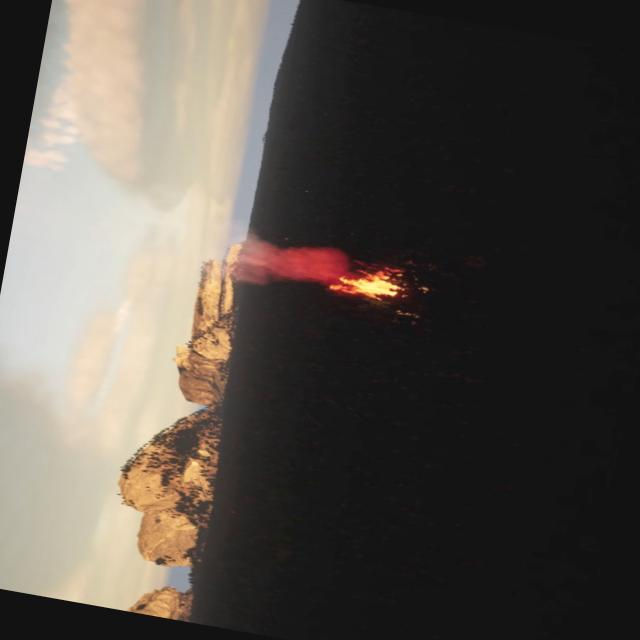fire: (330, 252, 420, 308)
smoke: (216, 225, 352, 298)
